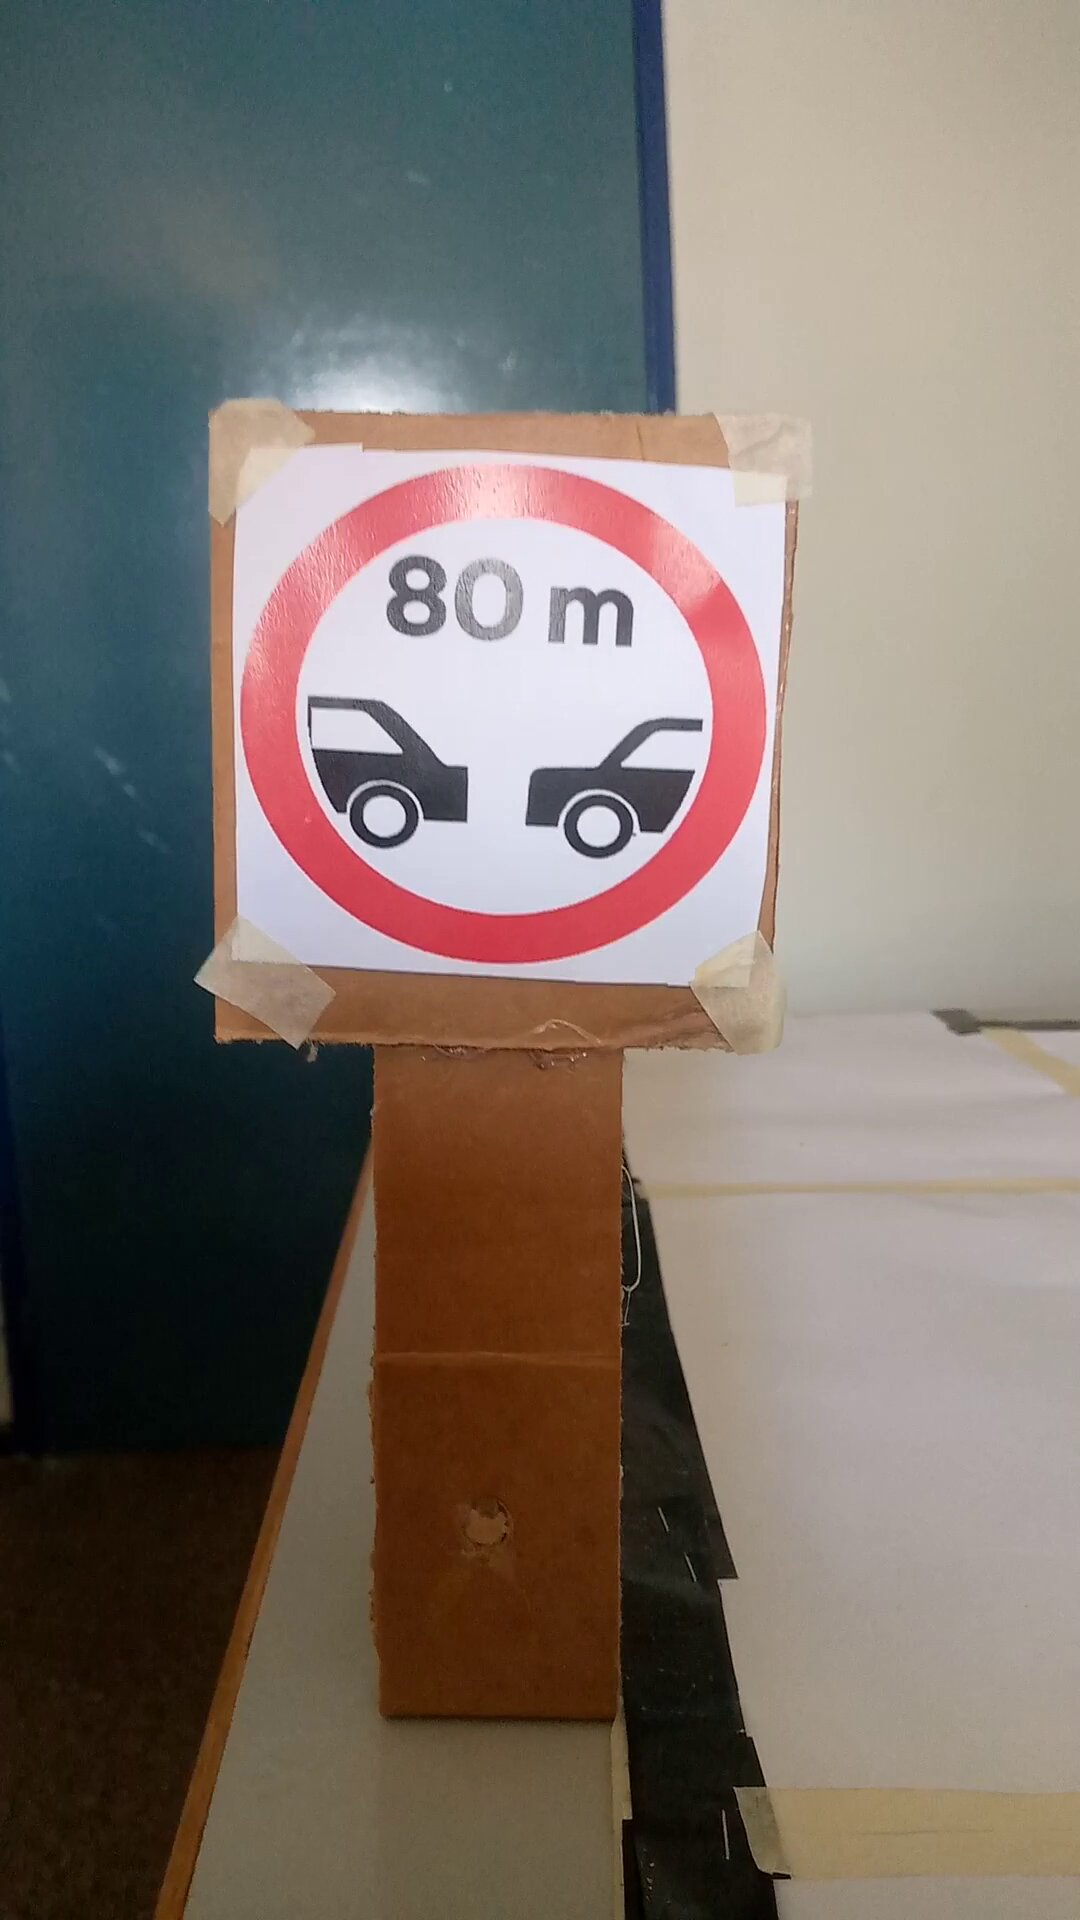panel001: (210, 423, 814, 1048)
